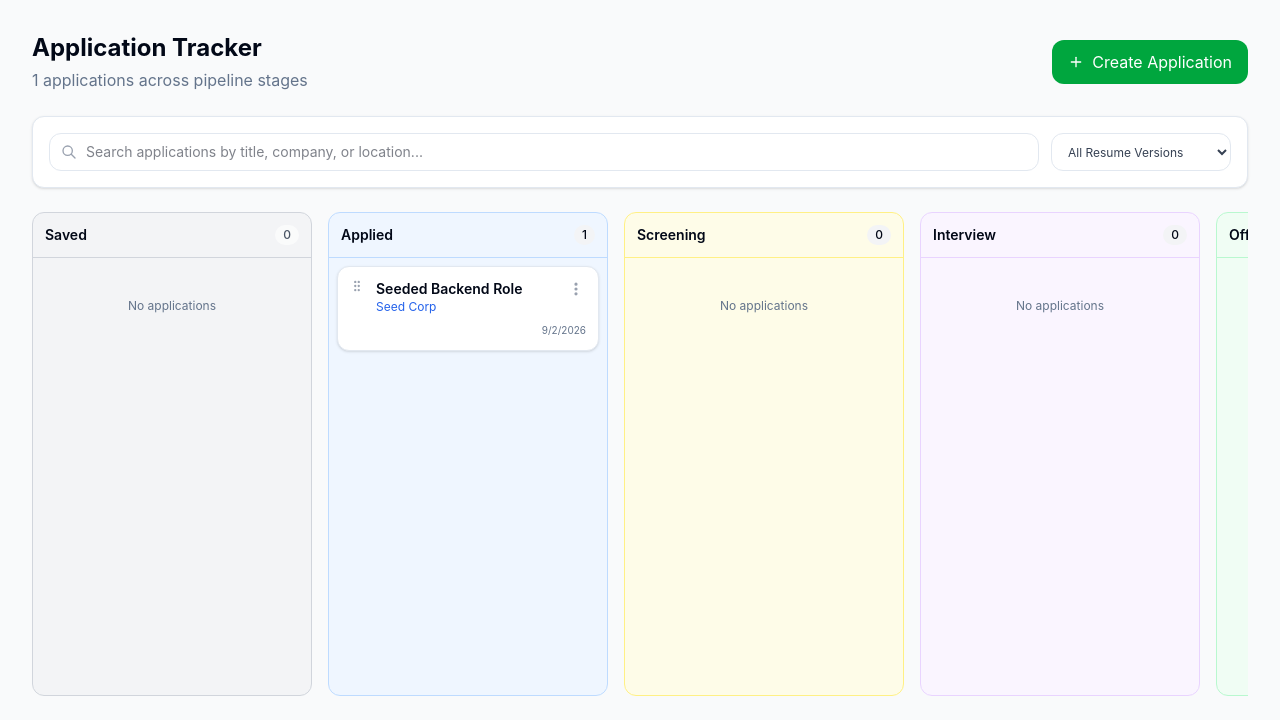
it: High-churn page gates (render + one interaction) › TrackerPage renders the kanban from seeded applications and opens the create modal
Check: the text "Seed Corp" is shown, box [376,299,436,314]
# Interaction gate: Create Application button opens the modal (h2 heading).
Click the button "Create Application" at {"x": 1150, "y": 62}, box [1052,40,1248,84]
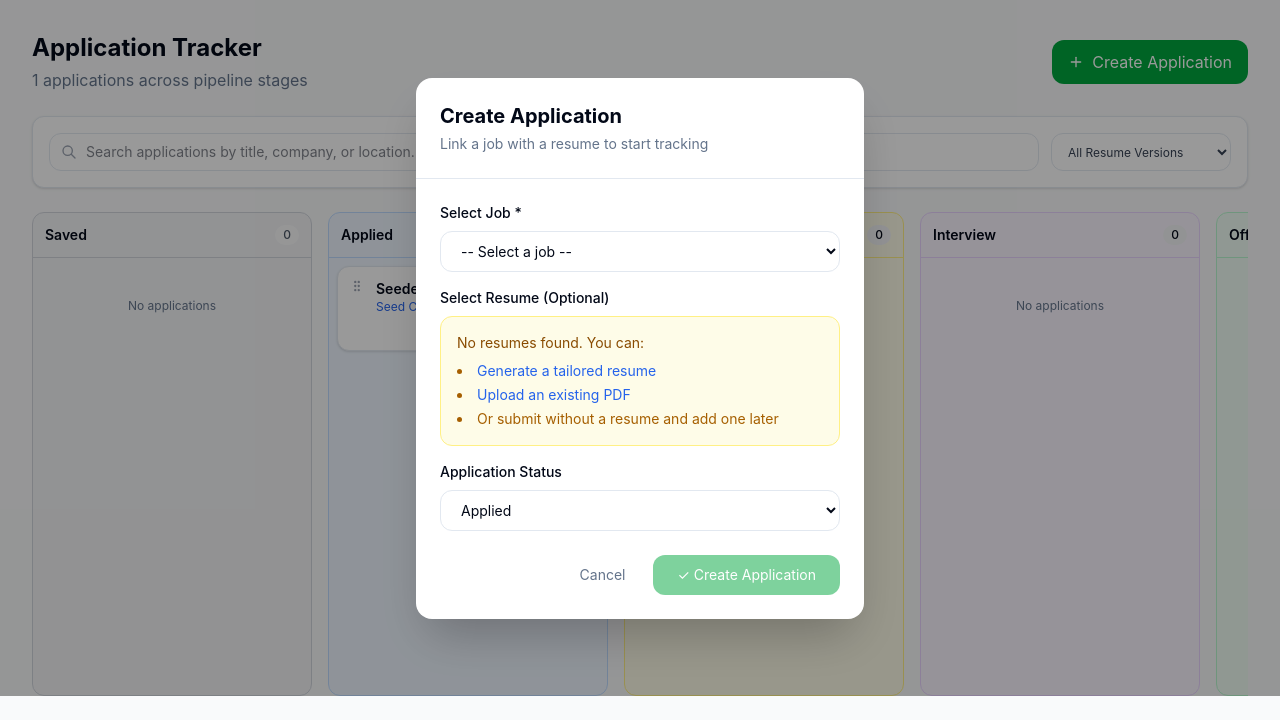
Check: the heading "Create Application" is shown, box [440,104,622,128]
